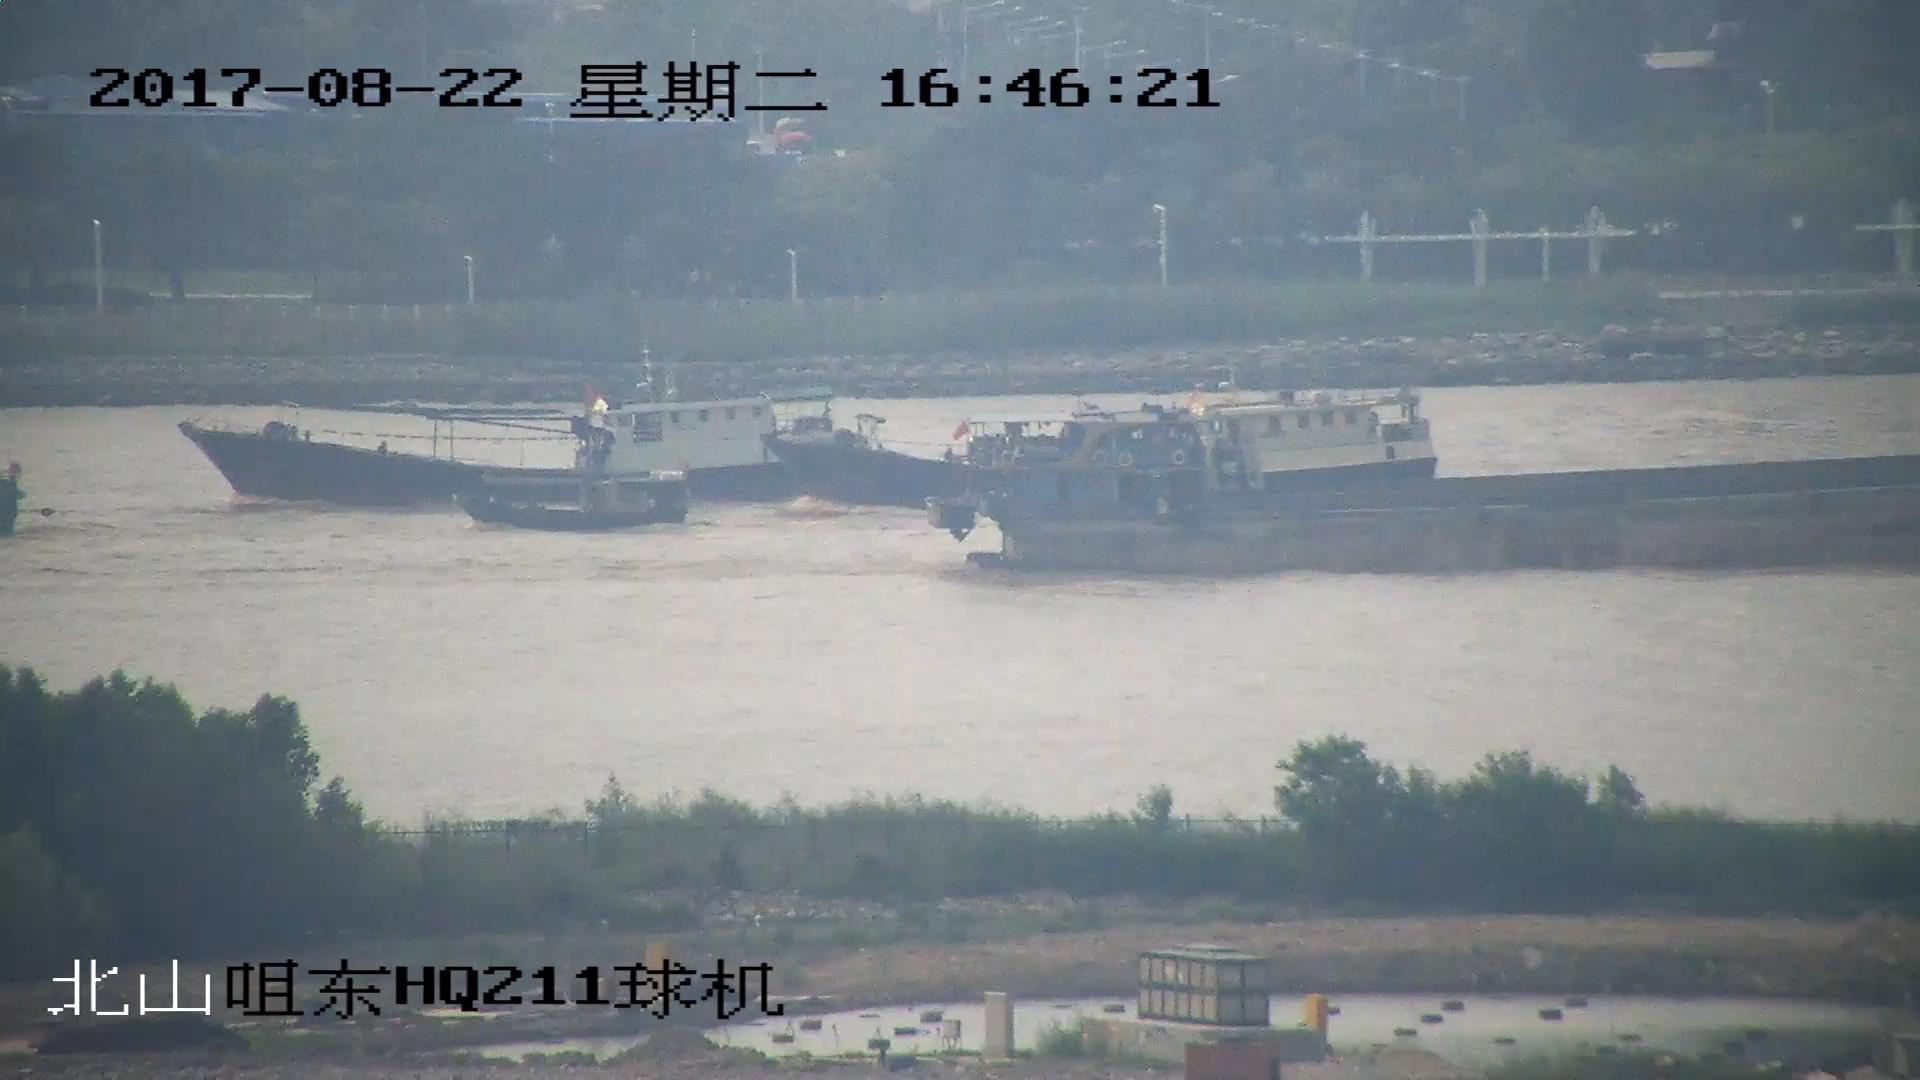bulk cargo carrier: (925, 414, 1920, 570)
fishing boat: (191, 369, 853, 516), (770, 376, 1436, 516), (455, 471, 701, 535)
